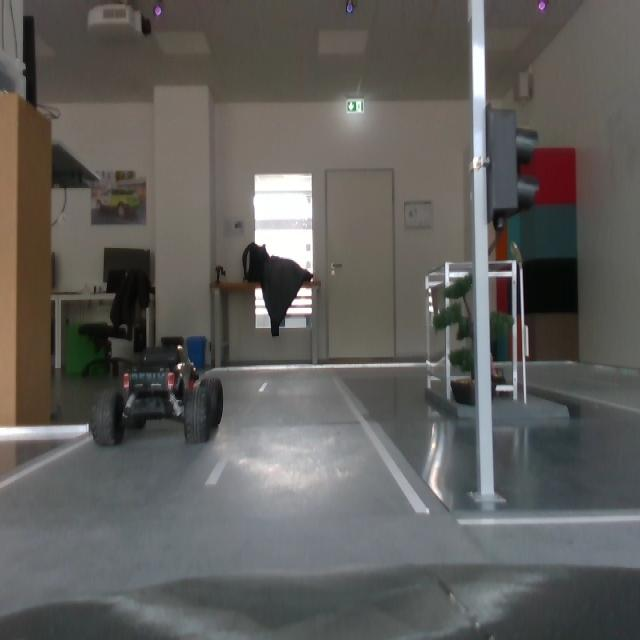car: (92, 338, 227, 452)
potted plant: (429, 274, 514, 378)
traffic light: (486, 103, 541, 234)
